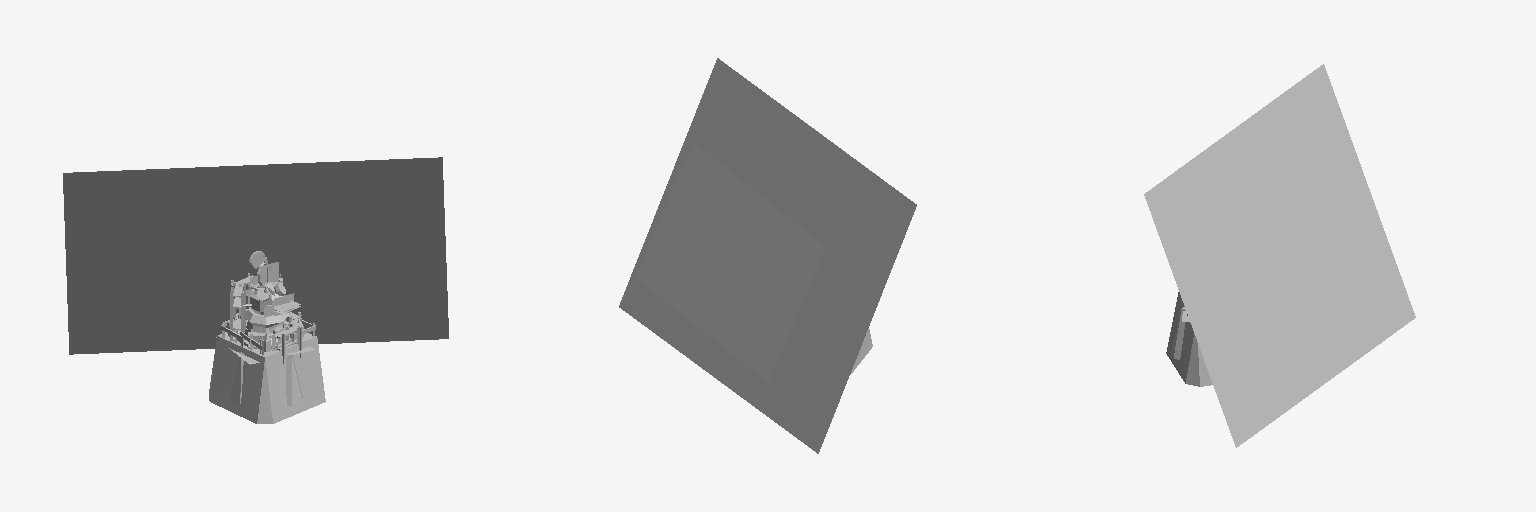
The model's file is humanos1.obj.
3 renders of one model, left to right at view 1: azimuth 30°, elevation 25°; view 2: azimuth 150°, elevation 25°; view 3: azimuth 270°, elevation 25°, orthographic.
Parts seen in each view (by area): view 1: Mesh39, Mesh38, Mesh31, Mesh22, Mesh06; view 2: Mesh39, Mesh03; view 3: Mesh39, Mesh03, Mesh38.
Boxes of the visible parts, box(x1,y1,x2,y2) form: Mesh39: box(63, 157, 448, 354); Mesh38: box(209, 332, 325, 423); Mesh31: box(228, 251, 303, 351); Mesh22: box(230, 352, 302, 405); Mesh06: box(230, 282, 301, 349); Mesh39: box(619, 58, 916, 453); Mesh03: box(635, 142, 826, 382); Mesh39: box(1144, 64, 1415, 447); Mesh03: box(1228, 155, 1398, 374); Mesh38: box(1166, 292, 1212, 386).
Size of the model in its own units: 1249 by 833 by 859.